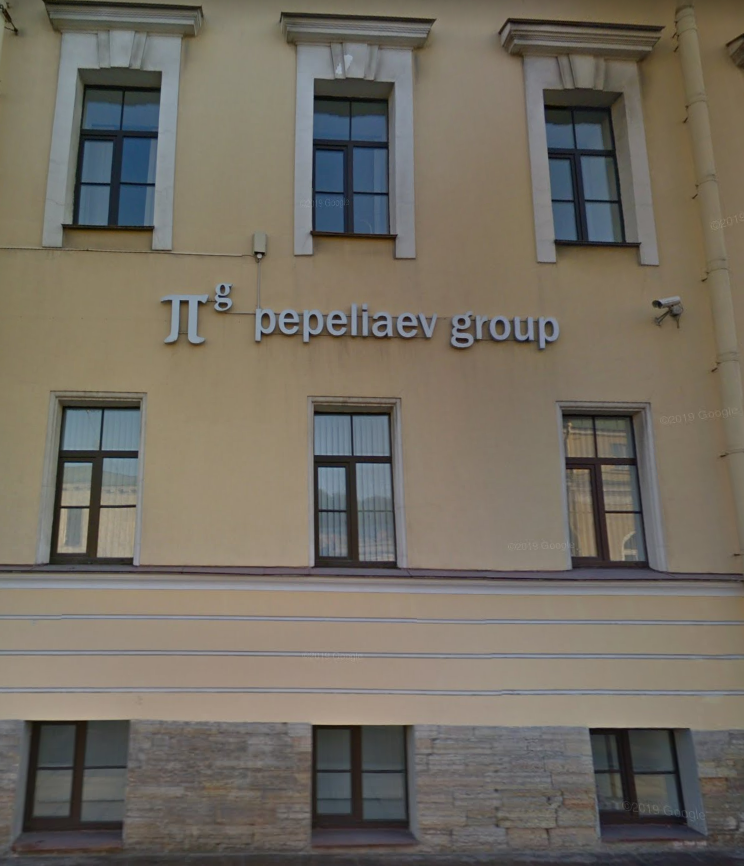signboard: (155, 277, 559, 358)
window: (305, 400, 404, 573), (52, 399, 147, 563), (559, 411, 647, 577), (64, 79, 160, 229), (19, 724, 130, 835), (313, 92, 395, 235), (544, 99, 623, 244), (309, 726, 410, 829), (590, 733, 685, 828)
